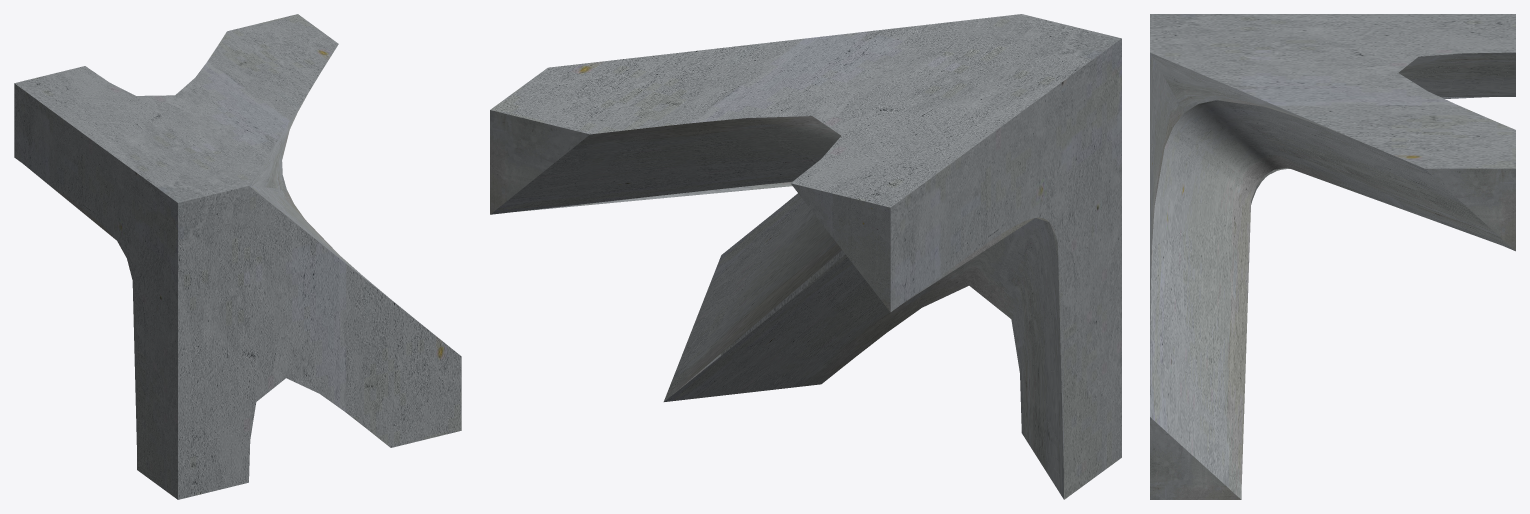
The model's file is module_O1.fbx.
3 views of the same model, side by side, from view 1: azimuth 30°, elevation 25°; view 2: azimuth 150°, elevation 25°; view 3: azimuth 270°, elevation 25° (orthographic). The views are drawn at different scales.
Parts seen in each view (by area): view 1: modules; view 2: modules; view 3: modules.
Boxes of the visible parts, x1,y1,x2,y2 form: modules: [14, 14, 461, 499]; modules: [490, 14, 1121, 499]; modules: [1150, 14, 1515, 499].
Size of the model in its own units: 1000 by 1000 by 1000.
Materials: 1 (1 with a texture image).
